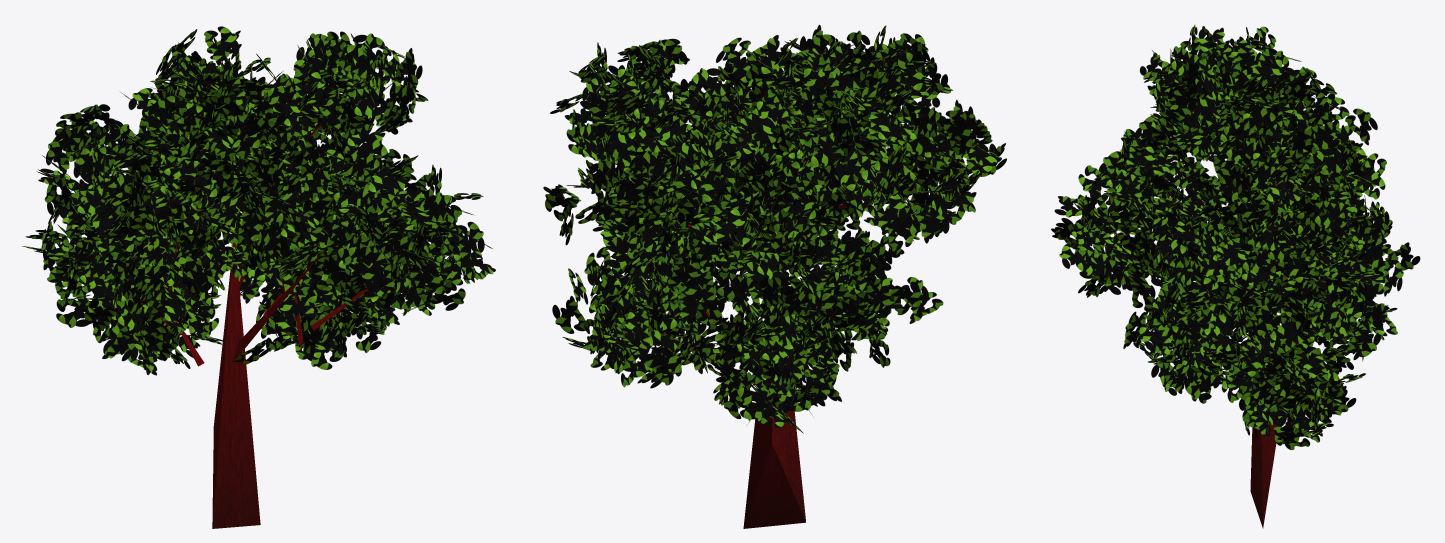
File: oak_broadleaf_v01_LOD2.glb
3 views of the same model, side by side, from view 1: azimuth 30°, elevation 25°; view 2: azimuth 150°, elevation 25°; view 3: azimuth 270°, elevation 25° (orthographic). The views are drawn at different scales.
Parts seen in each view (by area): view 1: oak_broadleaf_v01_LOD2; view 2: oak_broadleaf_v01_LOD2; view 3: oak_broadleaf_v01_LOD2.
Part boxes in pixels (<box>): oak_broadleaf_v01_LOD2: <box>22,26,495,528</box>; oak_broadleaf_v01_LOD2: <box>543,24,1006,528</box>; oak_broadleaf_v01_LOD2: <box>1051,25,1420,528</box>.
Size of the model in its own units: 14.64 by 16.71 by 12.63.
Materials: 2 (2 with a texture image).
